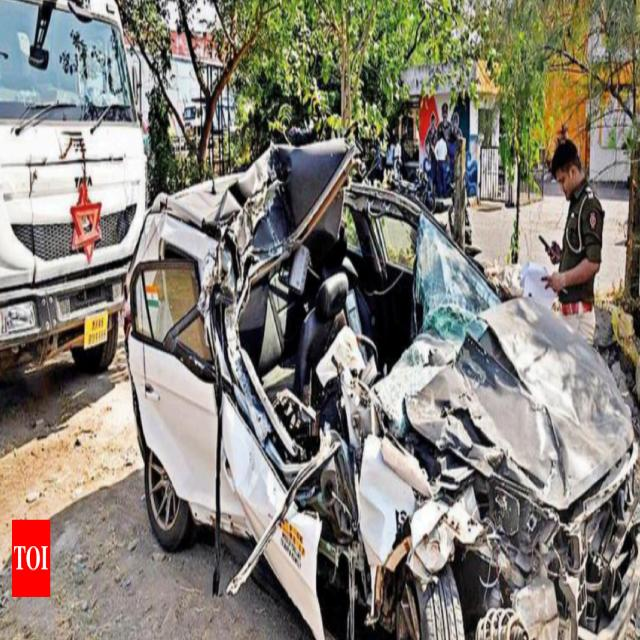accident: (124, 139, 640, 640)
truck: (0, 0, 150, 384)
